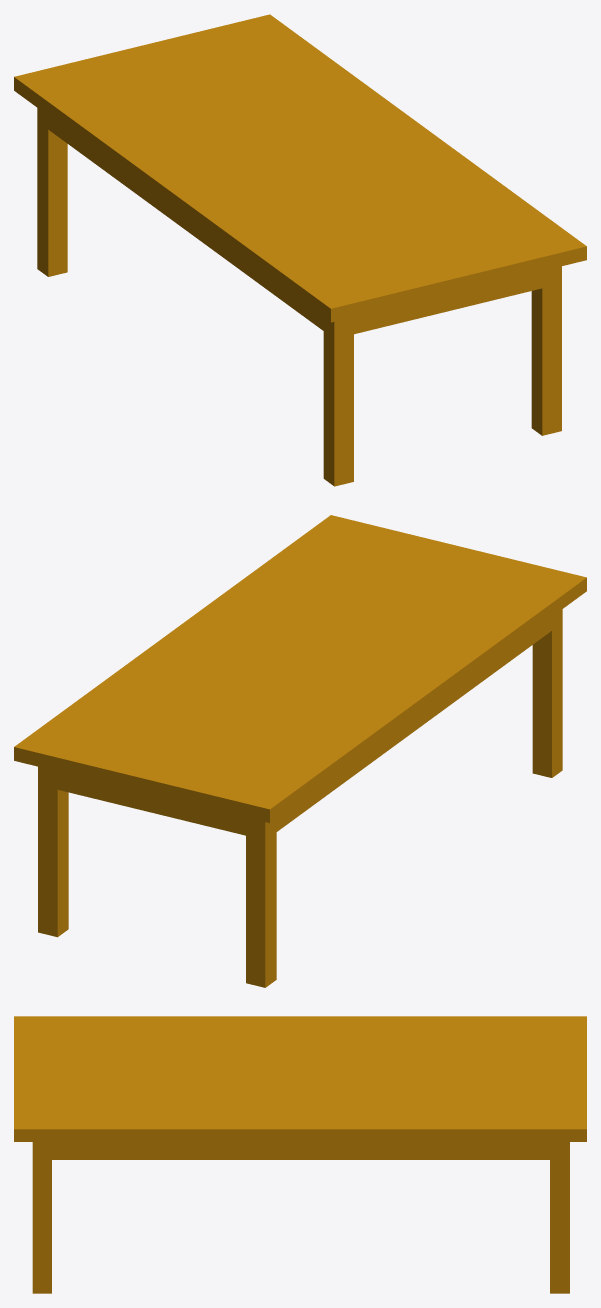
The model's file is table.dae.
3 renders of one model, top to bottom at view 1: azimuth 30°, elevation 25°; view 2: azimuth 150°, elevation 25°; view 3: azimuth 270°, elevation 25°, orthographic. The views are drawn at different scales.
Parts seen in each view (by area): view 1: Cube; view 2: Cube; view 3: Cube.
Boxes of the visible parts, x1,y1,x2,y2 form: Cube: [14, 14, 586, 486]; Cube: [14, 515, 586, 987]; Cube: [14, 1016, 586, 1293].
Size of the model in its own units: 0.9328 by 0.657 by 2.
